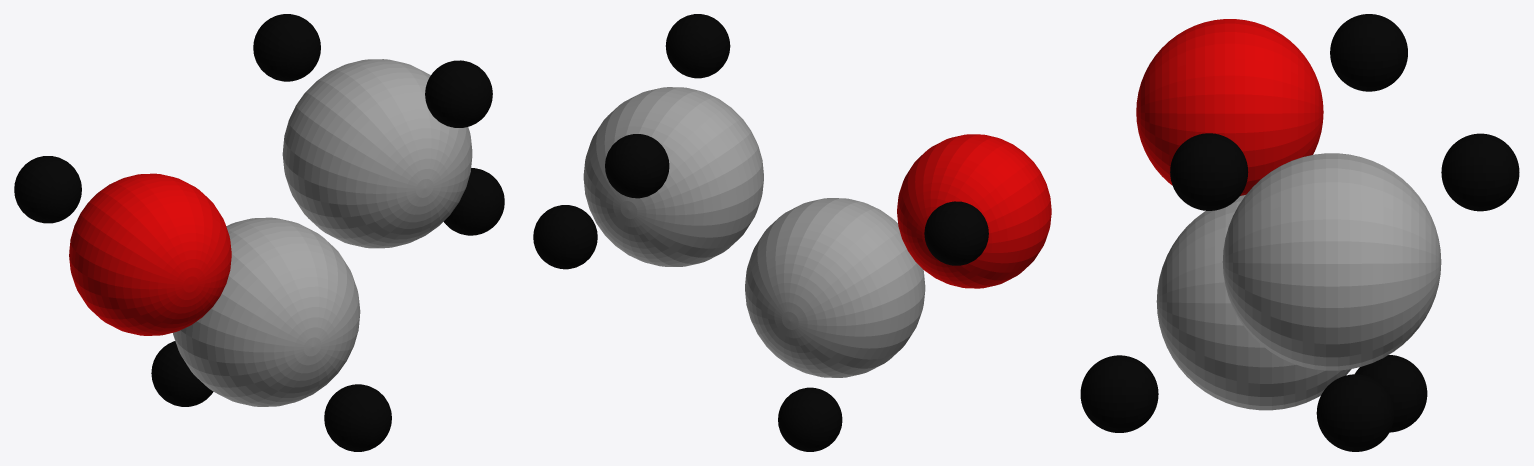
Rendered from Ethanol.glb.
The picture shows the model from 3 angles, left to right: view 1: azimuth 30°, elevation 25°; view 2: azimuth 150°, elevation 25°; view 3: azimuth 270°, elevation 25°; orthographic projection. The views are drawn at different scales.
Visible parts, largest first — view 1: world; view 2: world; view 3: world.
Boxes of the visible parts, bbox=[...] form: world: bbox=[14, 14, 504, 451]; world: bbox=[533, 14, 1051, 451]; world: bbox=[1080, 14, 1519, 451].
Bounding box in the file's own units: 4.05 × 2.84 × 2.81.
